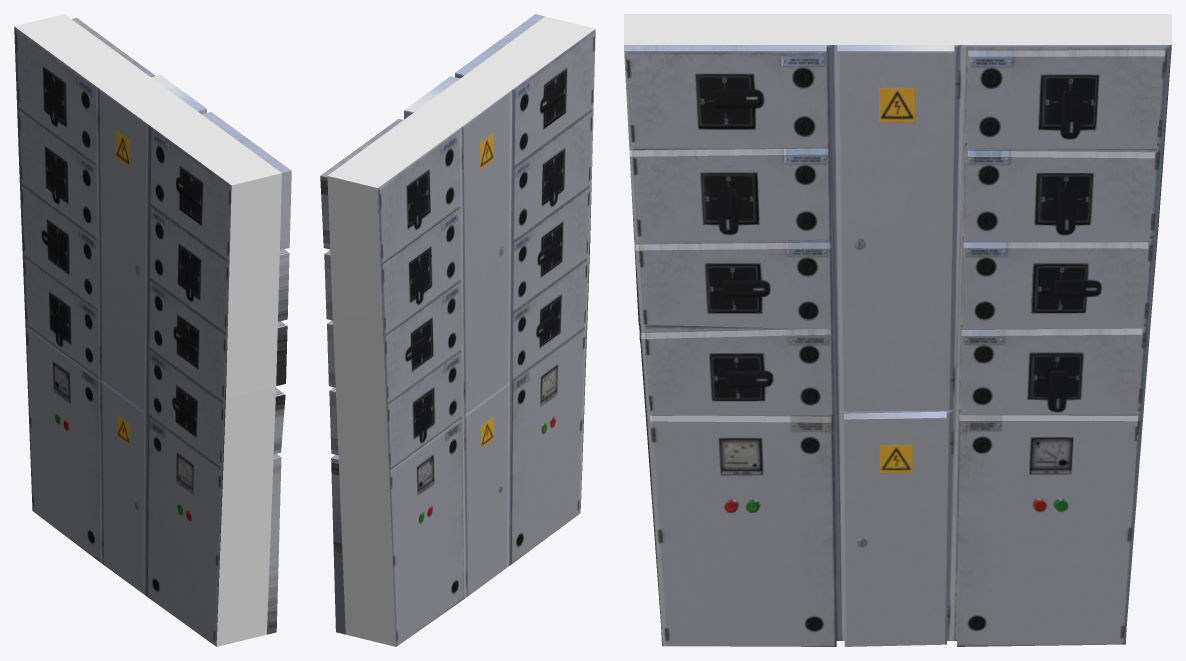
File: panel1_2.fbx
3 views of the same model, side by side, from view 1: azimuth 30°, elevation 25°; view 2: azimuth 150°, elevation 25°; view 3: azimuth 270°, elevation 25° (orthographic). The views are drawn at different scales.
Parts seen in each view (by area): view 1: panel1; view 2: panel1; view 3: panel1.
Part boxes in pixels (x1,y1,x2,y2): panel1: (14, 14, 291, 646); panel1: (320, 14, 595, 646); panel1: (624, 14, 1171, 646).
Size of the model in its own units: 159 by 1193 by 993.
Materials: 2 (1 with a texture image).
